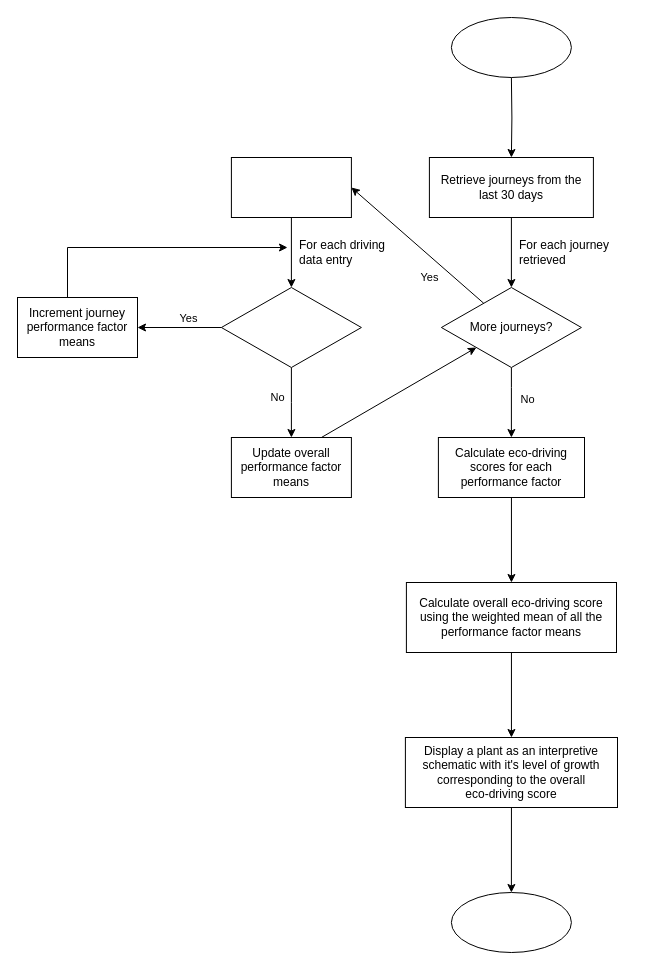
This 645x970 diagram has some shape labels left out. The box of each missing label's shape, as (x1, y1, x2, y2) in pixels:
End: (450, 892, 571, 952)
More driving data?: (220, 286, 361, 368)
Retrieve journey driving data: (230, 156, 351, 218)
Start: (450, 16, 571, 78)
